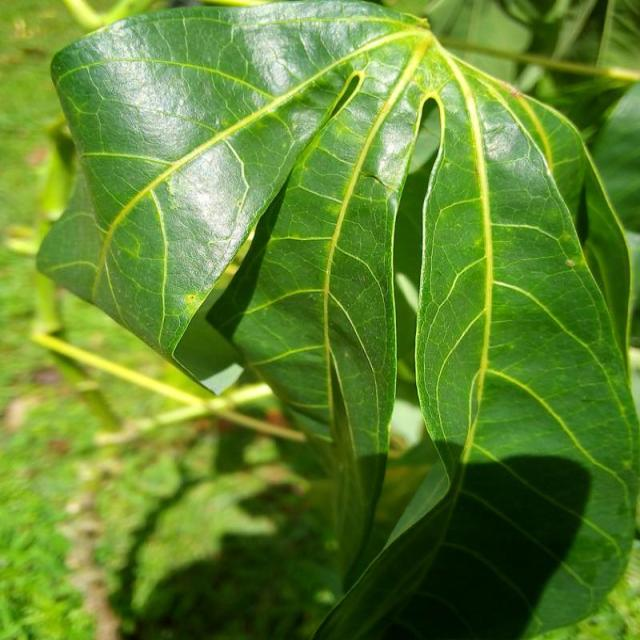cassava leaf: (37, 0, 639, 637)
